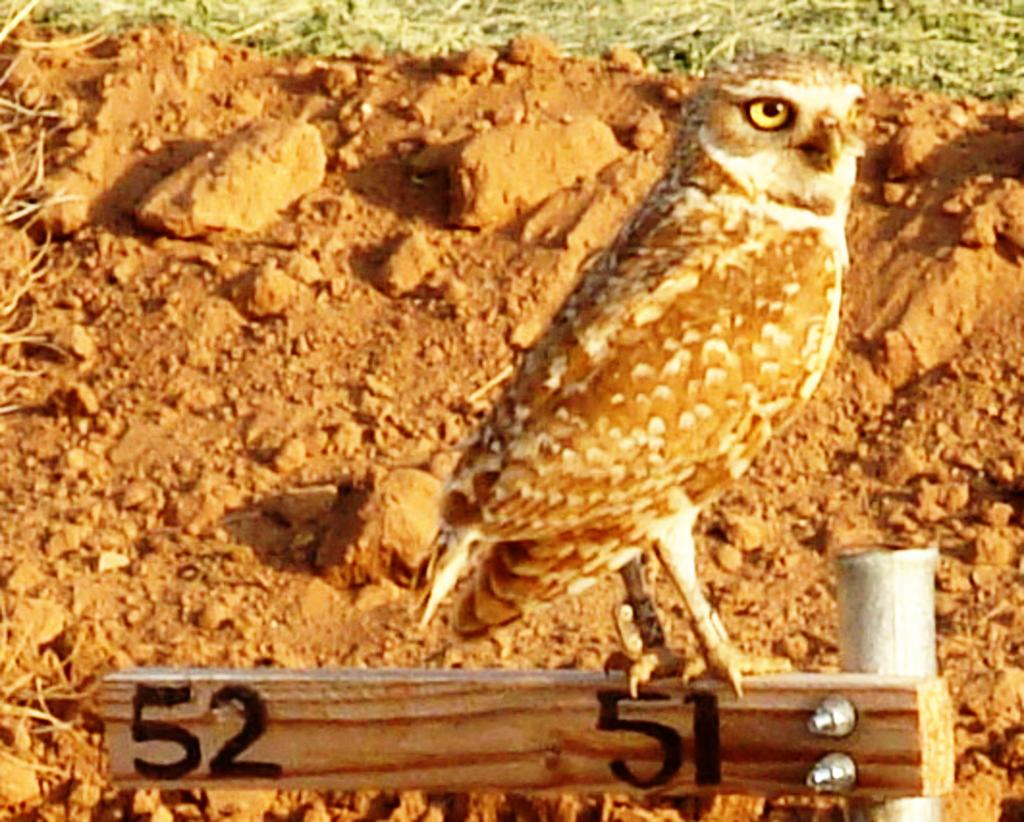Owl: (404, 52, 876, 708)
